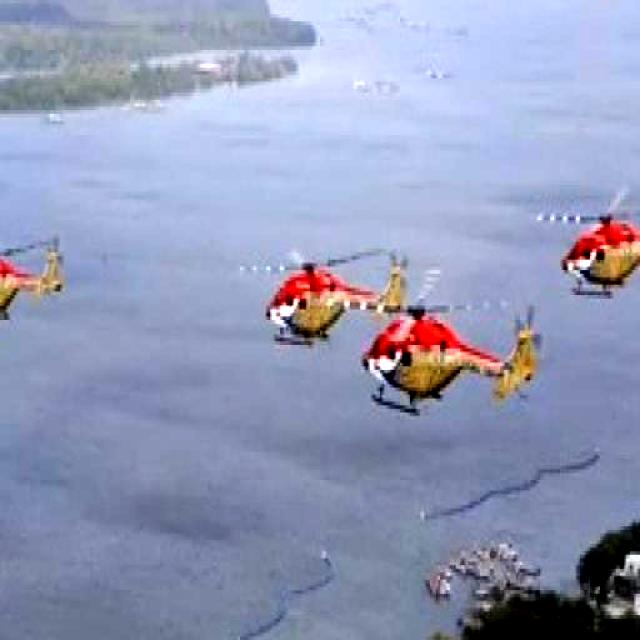drone: (368, 296, 539, 414), (252, 246, 418, 340), (545, 184, 640, 294), (0, 236, 68, 334)
